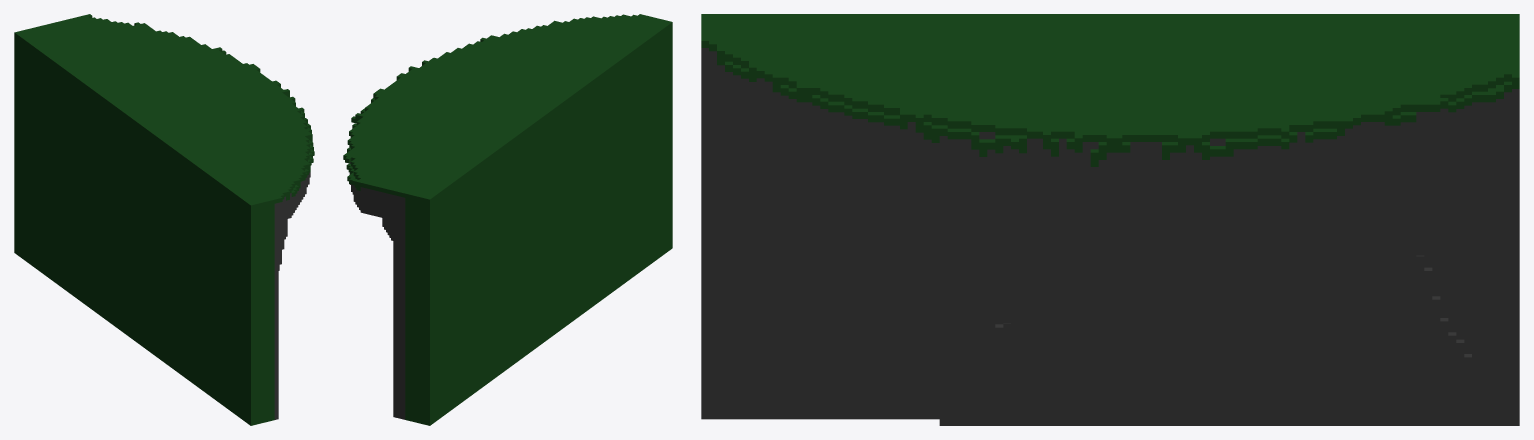
File: penhacoL.obj
3 renders of one model, left to right at view 1: azimuth 30°, elevation 25°; view 2: azimuth 150°, elevation 25°; view 3: azimuth 270°, elevation 25°, orthographic. The views are drawn at different scales.
Parts seen in each view (by area): view 1: penhacoL; view 2: penhacoL; view 3: penhacoL.
Boxes of the visible parts, x1,y1,x2,y2 form: penhacoL: [14, 14, 314, 425]; penhacoL: [343, 14, 672, 425]; penhacoL: [701, 14, 1519, 425].
Size of the model in its own units: 37 by 53 by 103.
Materials: 1 (1 with a texture image).
